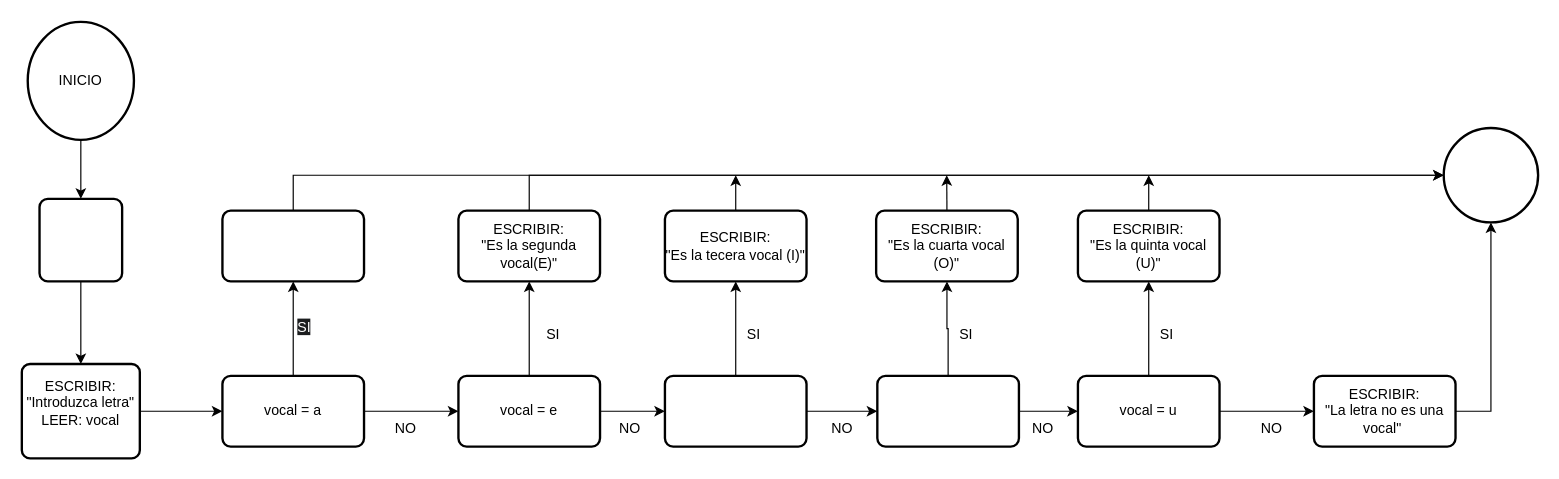
The diagram is 1559 pixels wide and 479 high, and some of its shapes have lost their labels. Here are the shapes that lost their labels. From the top down, the centre of each, then its label:
[1490,174]: FIN
[80,239]: string: vocal
[293,245]: ESCRIBIR: "Es la primera vocal(A)"
[735,410]: vocal = i
[948,410]: vocal = o
